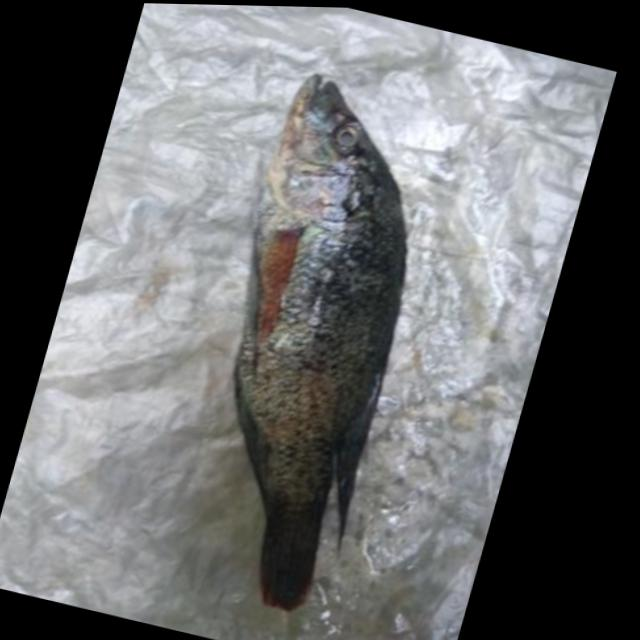Tilapia: (151, 60, 469, 621)
